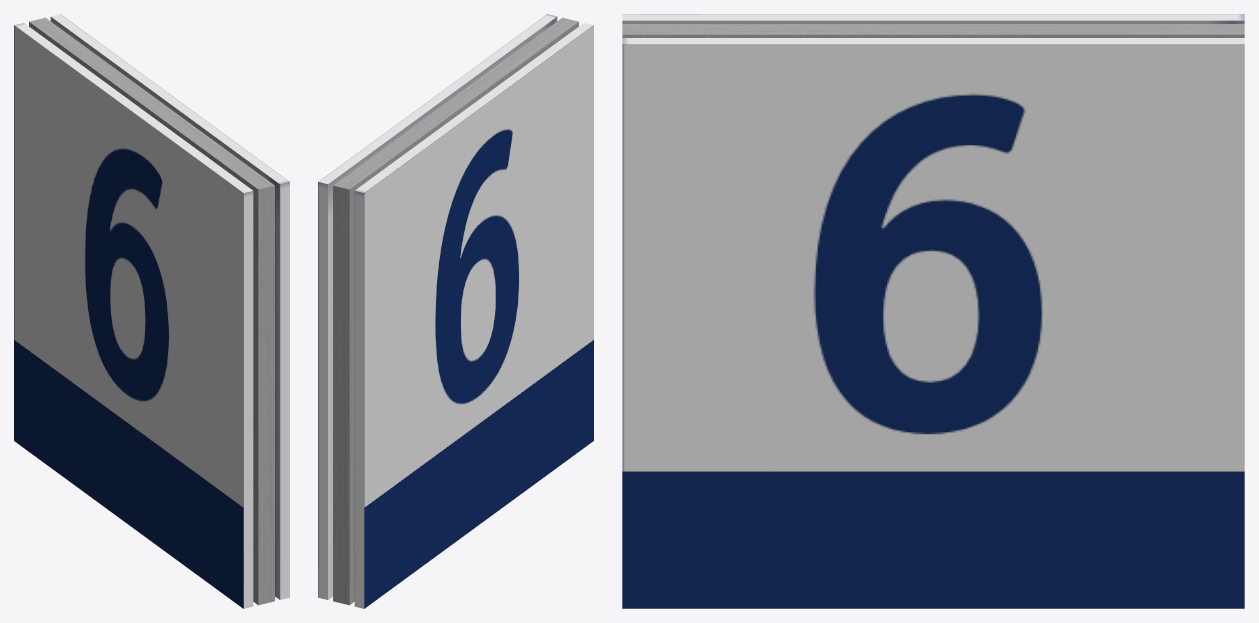
The model's file is scotrail_platform_6.obj.
3 renders of one model, left to right at view 1: azimuth 30°, elevation 25°; view 2: azimuth 150°, elevation 25°; view 3: azimuth 270°, elevation 25°, orthographic. The views are drawn at different scales.
Visible parts, largest first — view 1: cube; view 2: cube; view 3: cube.
Boxes of the visible parts, x1,y1,x2,y2 form: cube: (14,14,289,608); cube: (318,14,593,608); cube: (622,14,1244,608).
Bounding box in the file's own units: 0.0438 × 0.375 × 0.375.
Materials: 2 (2 with a texture image).
